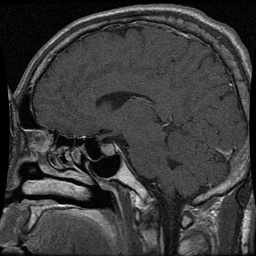pituitary: (100, 143, 115, 156)
